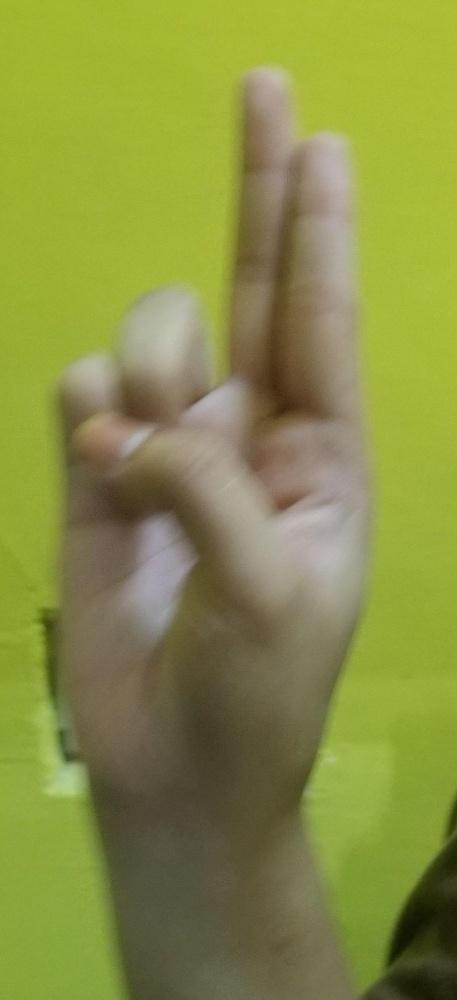u: (58, 64, 384, 842)
